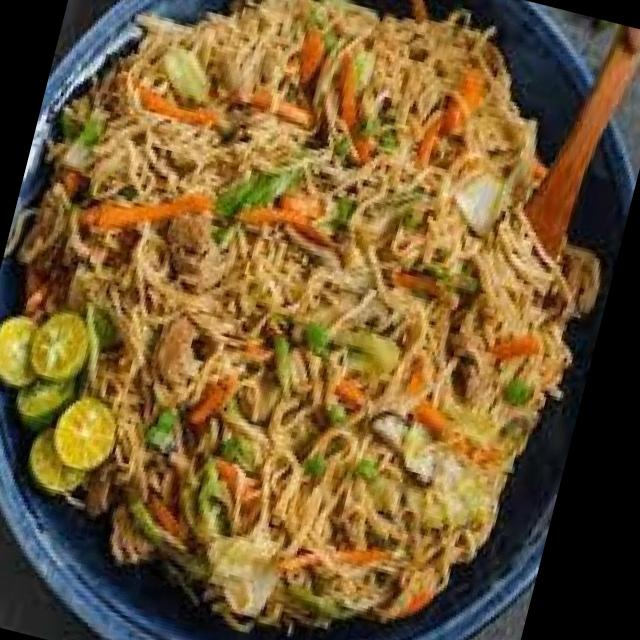pancit bihon: (30, 2, 577, 618)
